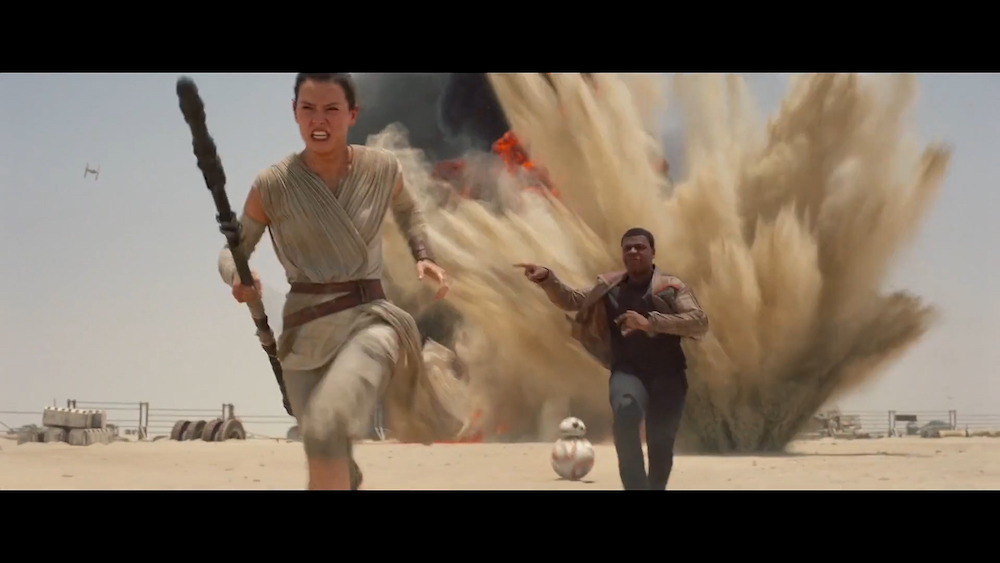Tie Fighter: (84, 163, 101, 182)
